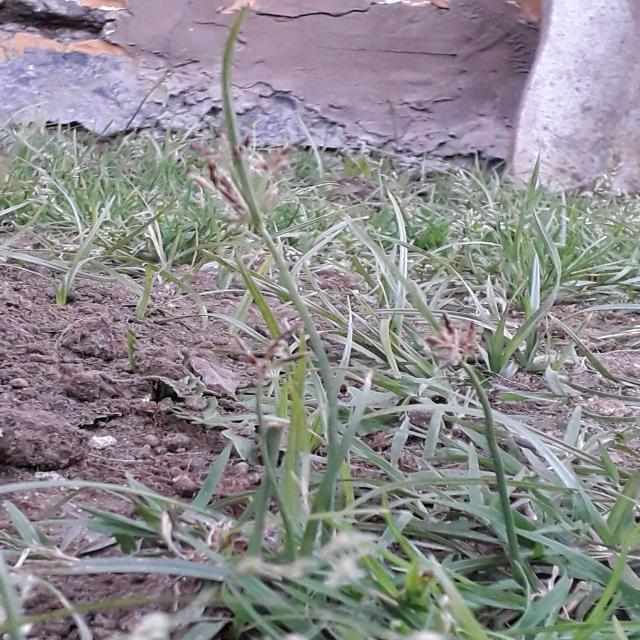cyperus: (184, 102, 294, 235), (413, 298, 495, 378), (222, 314, 312, 378)
